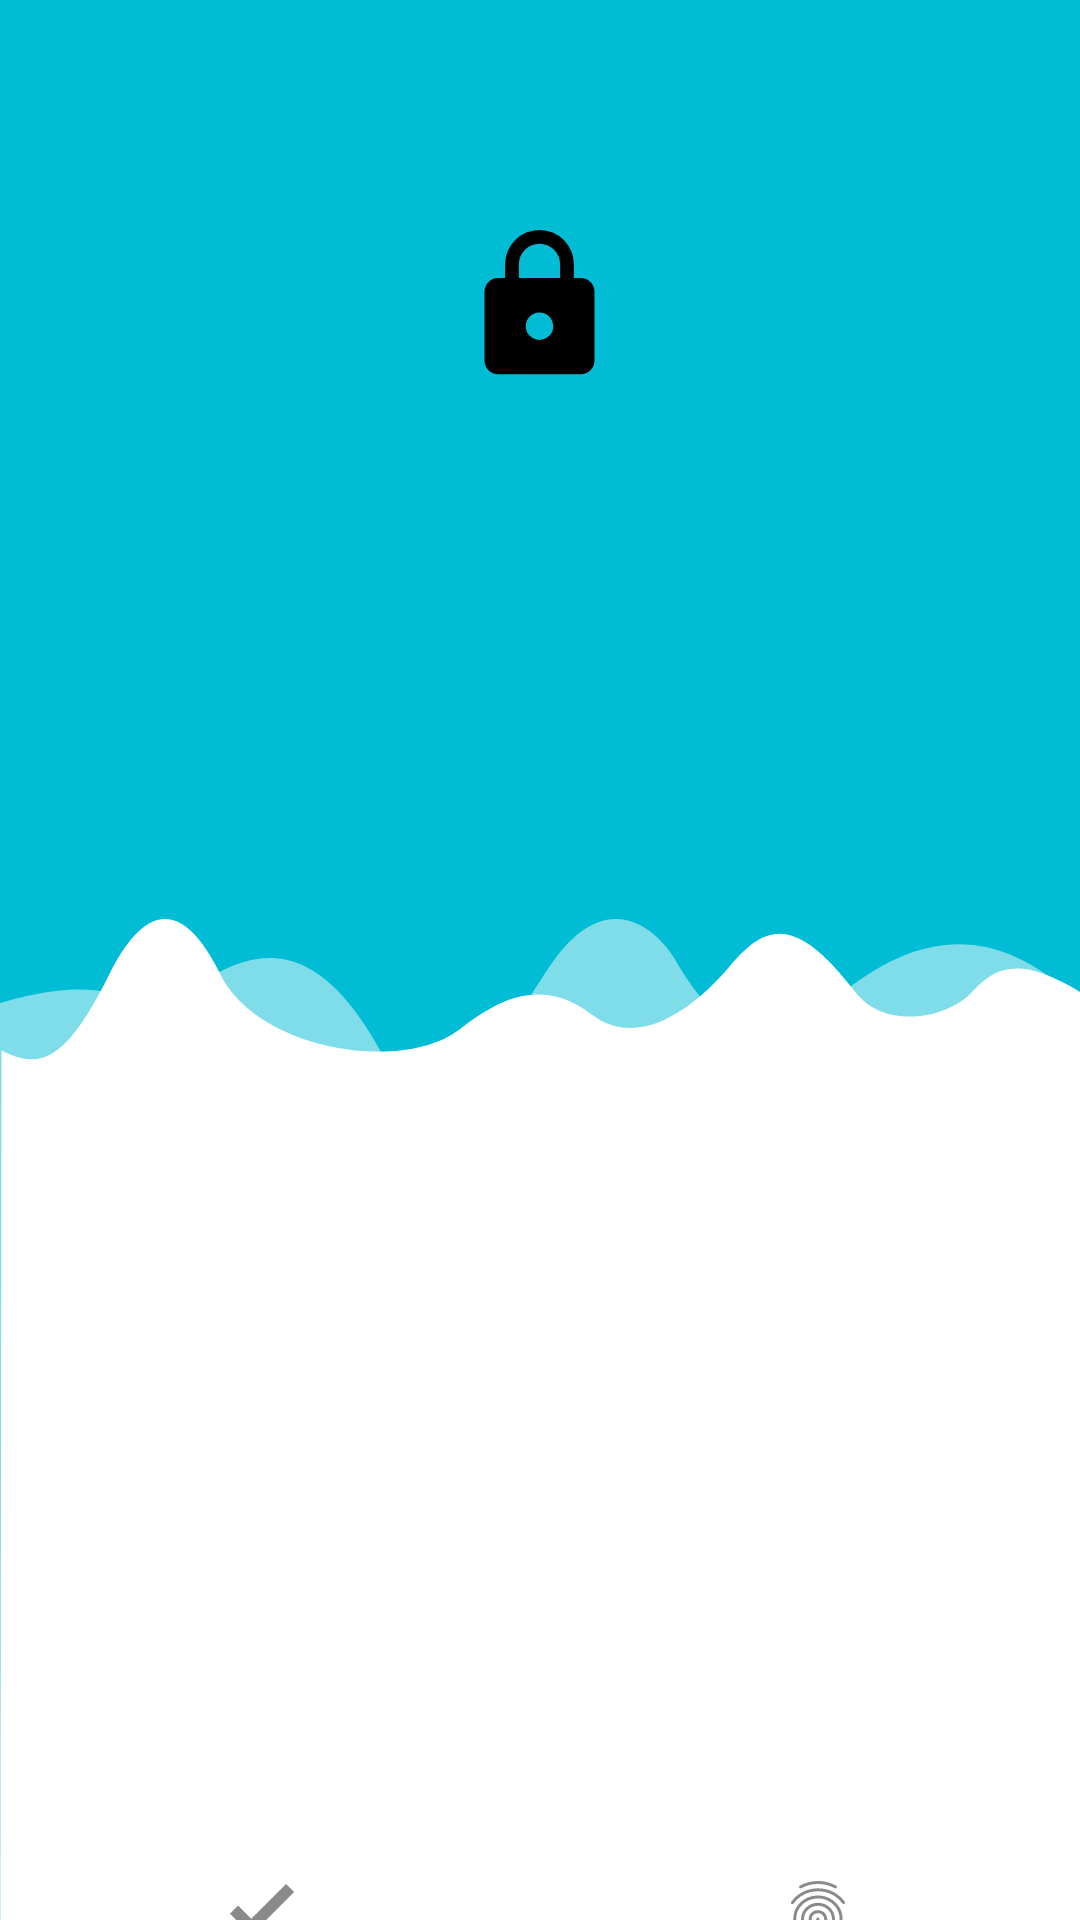

Icon bounding boxes for this 1080px×1920px phone screenshot, format (x1, y1, x2, y2):
lock: (484, 230, 595, 375)
